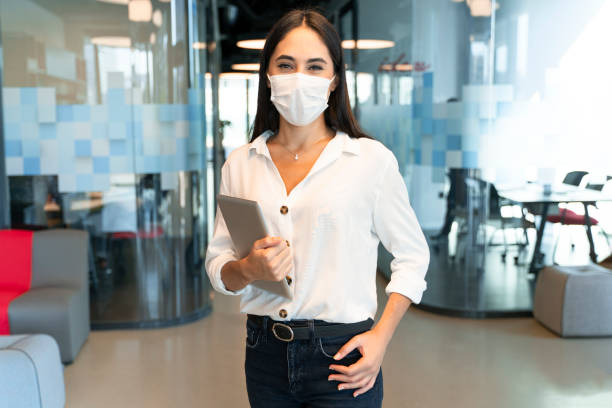with mask: (268, 20, 339, 128)
